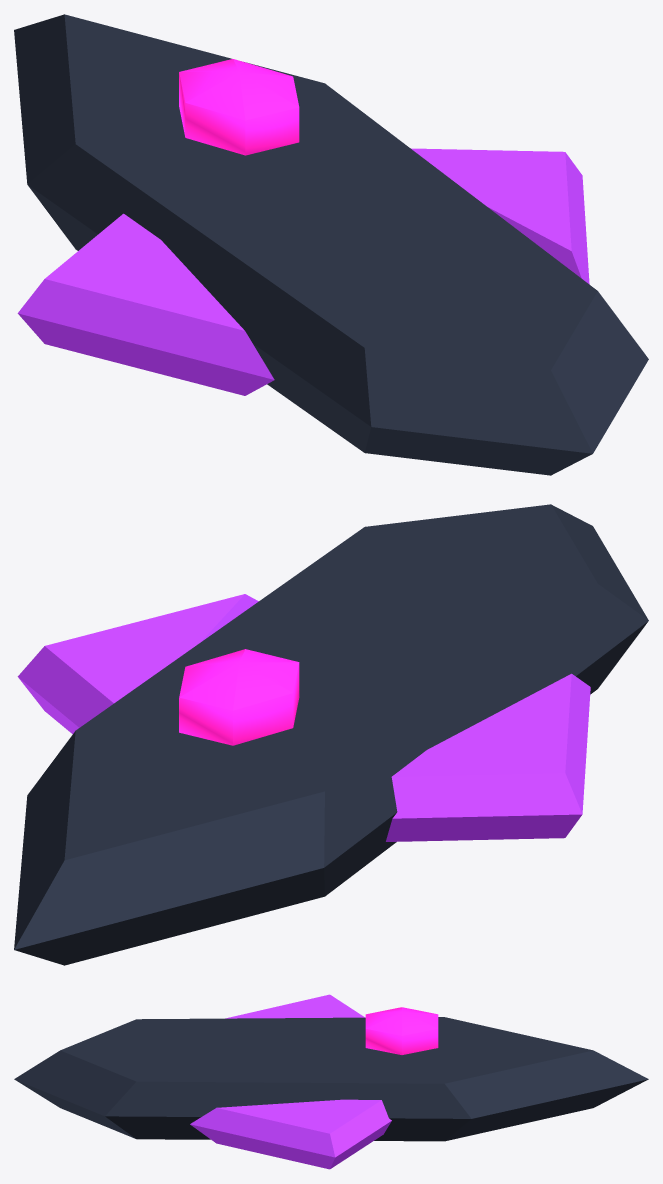
Rendered from tempest_section_mockup.glb.
The picture shows the model from 3 angles, top to bottom: view 1: azimuth 30°, elevation 25°; view 2: azimuth 150°, elevation 25°; view 3: azimuth 270°, elevation 25°; orthographic projection. The views are drawn at different scales.
Visible parts, largest first — view 1: TEMPEST CORE // ORBITAL SECTION; view 2: TEMPEST CORE // ORBITAL SECTION; view 3: TEMPEST CORE // ORBITAL SECTION.
Part boxes in pixels (x1,y1,x2,y2): TEMPEST CORE // ORBITAL SECTION: (14,14,648,475); TEMPEST CORE // ORBITAL SECTION: (14,504,648,965); TEMPEST CORE // ORBITAL SECTION: (14,994,648,1169).
Bounding box in the file's own units: 2.36 × 0.7 × 4.19.
